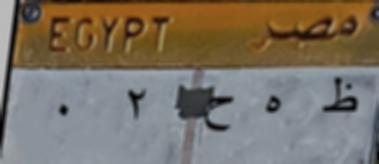0: (40, 94, 87, 132)
2: (110, 84, 162, 130)
7aa: (200, 89, 240, 140)
Thaa: (316, 71, 365, 126)
haa: (253, 86, 295, 129)
